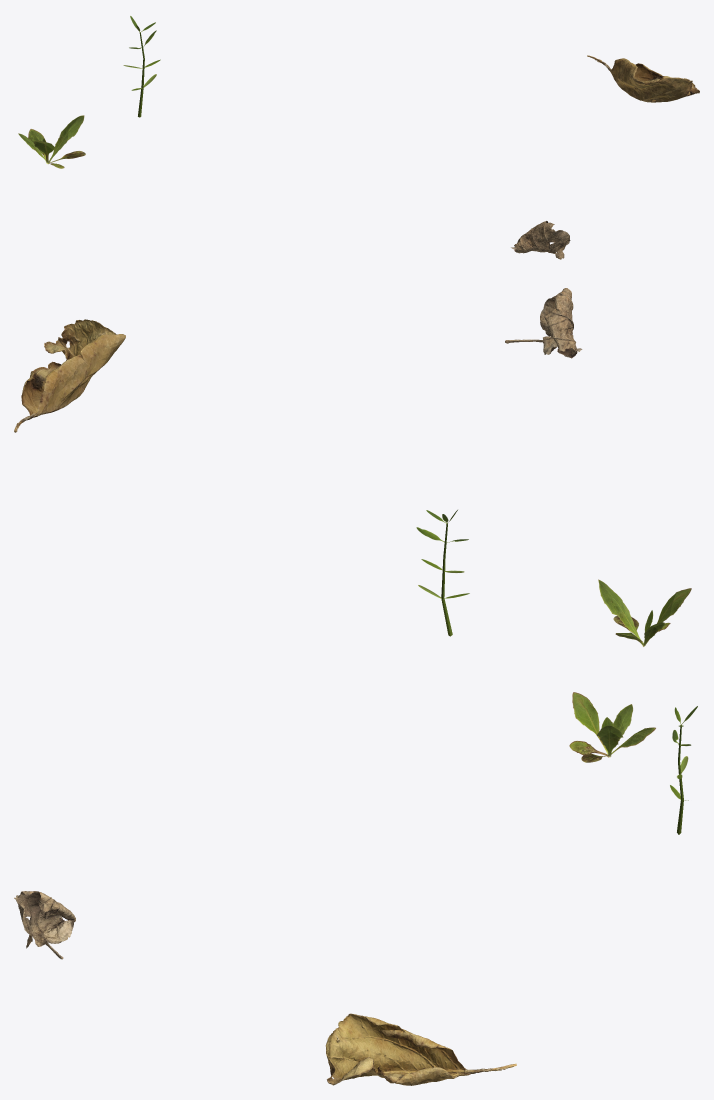
Rendered from garden-leaves-webp.glb.
The picture shows the model from 3 angles, top to bottom: view 1: azimuth 30°, elevation 25°; view 2: azimuth 150°, elevation 25°; view 3: azimuth 270°, elevation 25°; orthographic projection. The views are drawn at different scales.
Parts seen in each view (by area): view 1: s_list_04_10kuwa_s_list_04_10kuw_0, s_list_03_10kuwb_s_list_03_10kuw_0, R3_micro_plants_0, R4_micro_plants_0; view 2: s_list_04_10kuwa_s_list_04_10kuw_0, s_list_03_10kuwb_s_list_03_10kuw_0, R3_micro_plants_0, R4_micro_plants_0; view 3: s_list_04_10kuwa_s_list_04_10kuw_0, R3_micro_plants_0, s_list_03_10kuwb_s_list_03_10kuw_0, R4_micro_plants_0.
Boxes of the visible parts, left/top/right/bottom form: s_list_04_10kuwa_s_list_04_10kuw_0: left=587, top=55, right=699, bottom=102; s_list_03_10kuwb_s_list_03_10kuw_0: left=511, top=221, right=570, bottom=259; R3_micro_plants_0: left=18, top=115, right=85, bottom=168; R4_micro_plants_0: left=123, top=16, right=160, bottom=117; s_list_04_10kuwa_s_list_04_10kuw_0: left=14, top=319, right=125, bottom=432; s_list_03_10kuwb_s_list_03_10kuw_0: left=505, top=288, right=582, bottom=358; R3_micro_plants_0: left=598, top=579, right=691, bottom=646; R4_micro_plants_0: left=416, top=510, right=469, bottom=636; s_list_04_10kuwa_s_list_04_10kuw_0: left=325, top=1013, right=516, bottom=1085; R3_micro_plants_0: left=569, top=692, right=655, bottom=762; s_list_03_10kuwb_s_list_03_10kuw_0: left=14, top=891, right=75, bottom=959; R4_micro_plants_0: left=670, top=706, right=697, bottom=834.
Size of the model in its own units: 0.919 by 0.1546 by 0.719.
3 materials, 3 textured.
